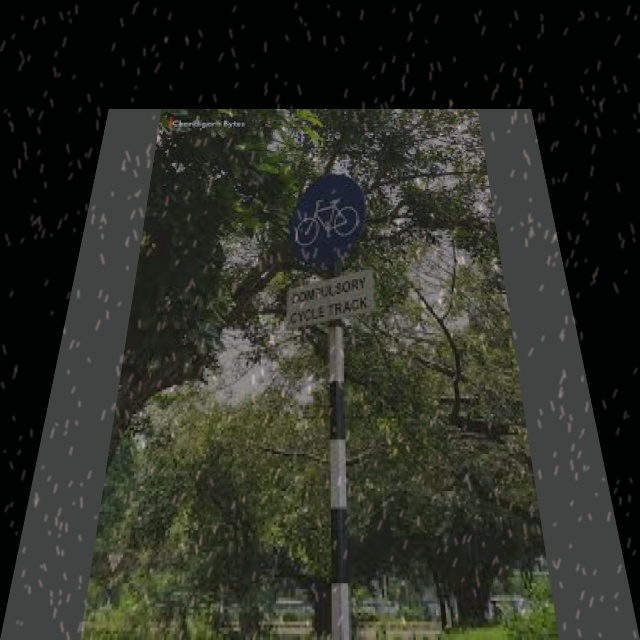Compulsory_Cycle_Track: (284, 174, 377, 265)
